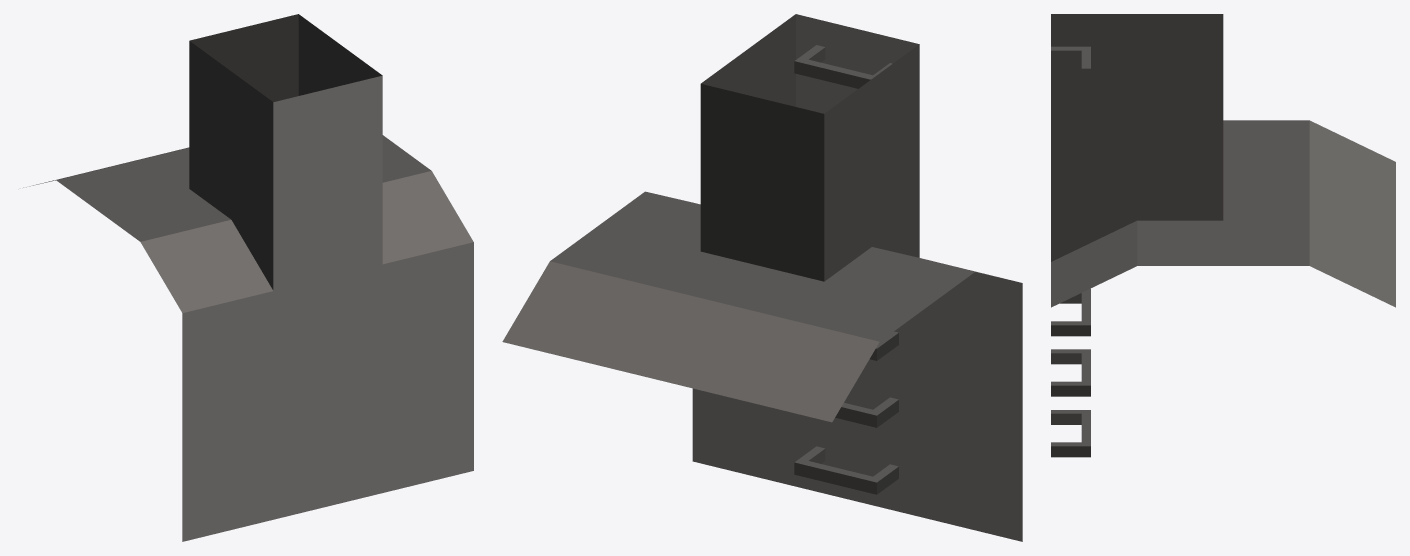
File: AI_Env_Sewer_LadderExit.fbx
The picture shows the model from 3 angles, left to right: view 1: azimuth 30°, elevation 25°; view 2: azimuth 150°, elevation 25°; view 3: azimuth 270°, elevation 25°; orthographic projection. The views are drawn at different scales.
Visible parts, largest first — view 1: AI_Env_Sewer_LadderExit; view 2: AI_Env_Sewer_LadderExit; view 3: AI_Env_Sewer_LadderExit.
Part boxes in pixels (left/top/right/bottom): AI_Env_Sewer_LadderExit: left=23, top=14, right=473, bottom=541; AI_Env_Sewer_LadderExit: left=502, top=14, right=1022, bottom=541; AI_Env_Sewer_LadderExit: left=1051, top=14, right=1395, bottom=457.
Size of the model in its own units: 5 by 6.85 by 5.
